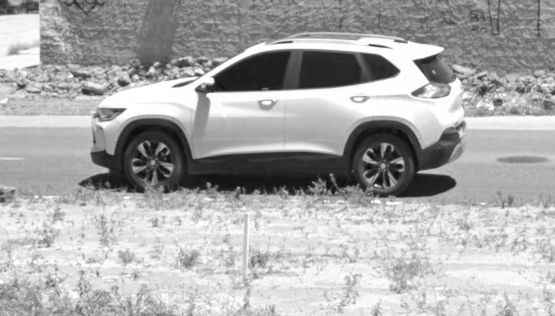car: (89, 28, 469, 200)
